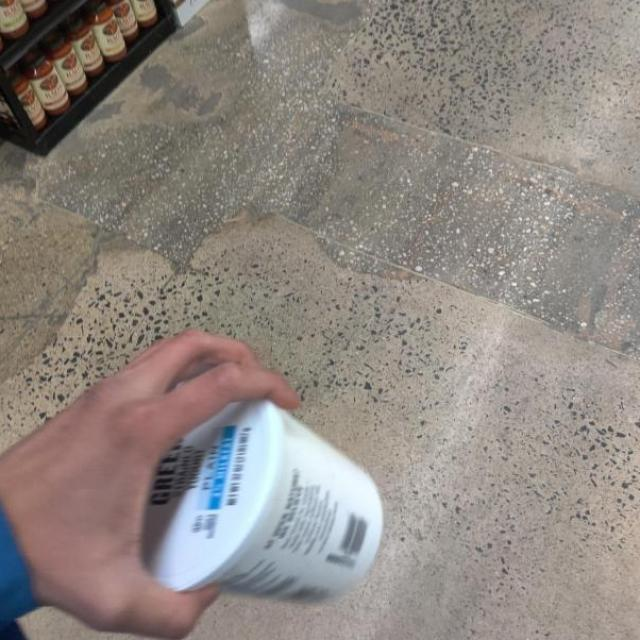Yogurt: (128, 400, 389, 605)
